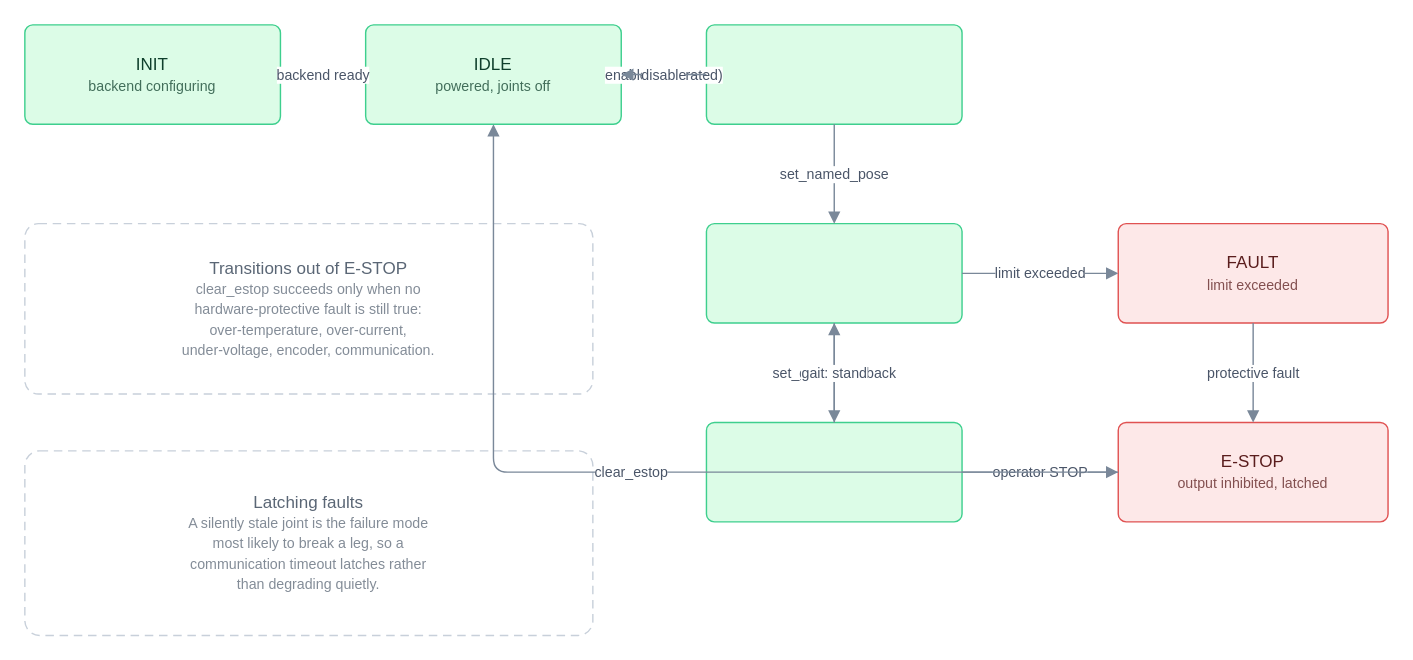
The diagram is 1413 pixels wide and 660 high, and some of its shapes have lost their labels. Here are the shapes that lost their labels. From the top down, the centre of each, then its label:
At (833,73): "READY enabled, holding".
At (833,272): "STANDING pose reached".
At (833,471): "MOVING requires live base feedback".
